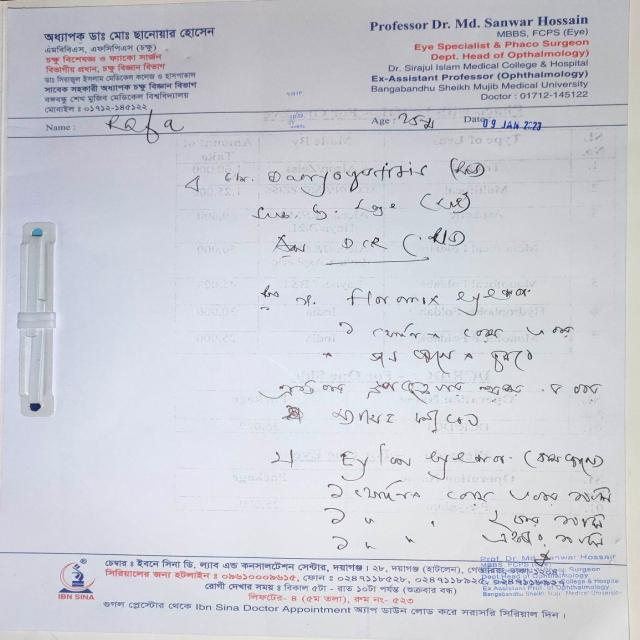Eylon: (333, 441, 416, 474)
Floromox: (341, 285, 445, 316)
